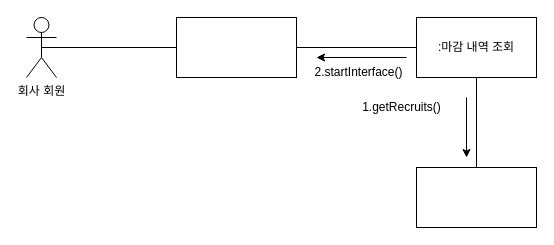
Image size: 554x245. Some labels were removed from this diagram. Each missing label, with the centre of its shape:
:마감 내역 조회 UI: (x=236, y=47)
:채용정보: (x=476, y=197)
